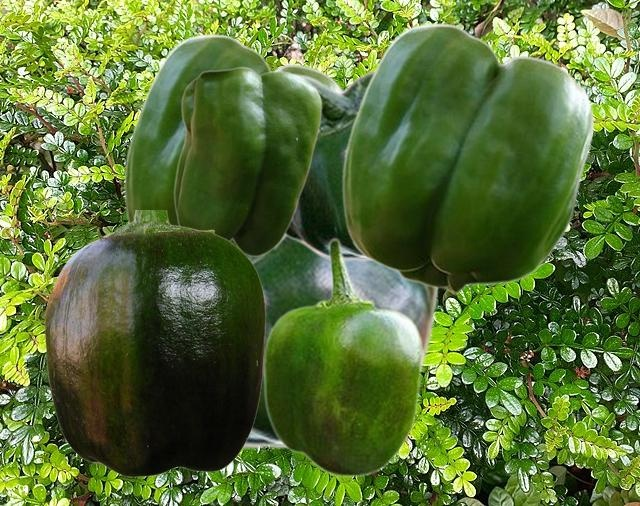bell_pepper: (341, 22, 593, 293), (44, 210, 265, 476), (123, 33, 342, 224), (244, 238, 438, 448), (262, 237, 423, 477), (173, 66, 322, 256), (285, 66, 374, 260)
